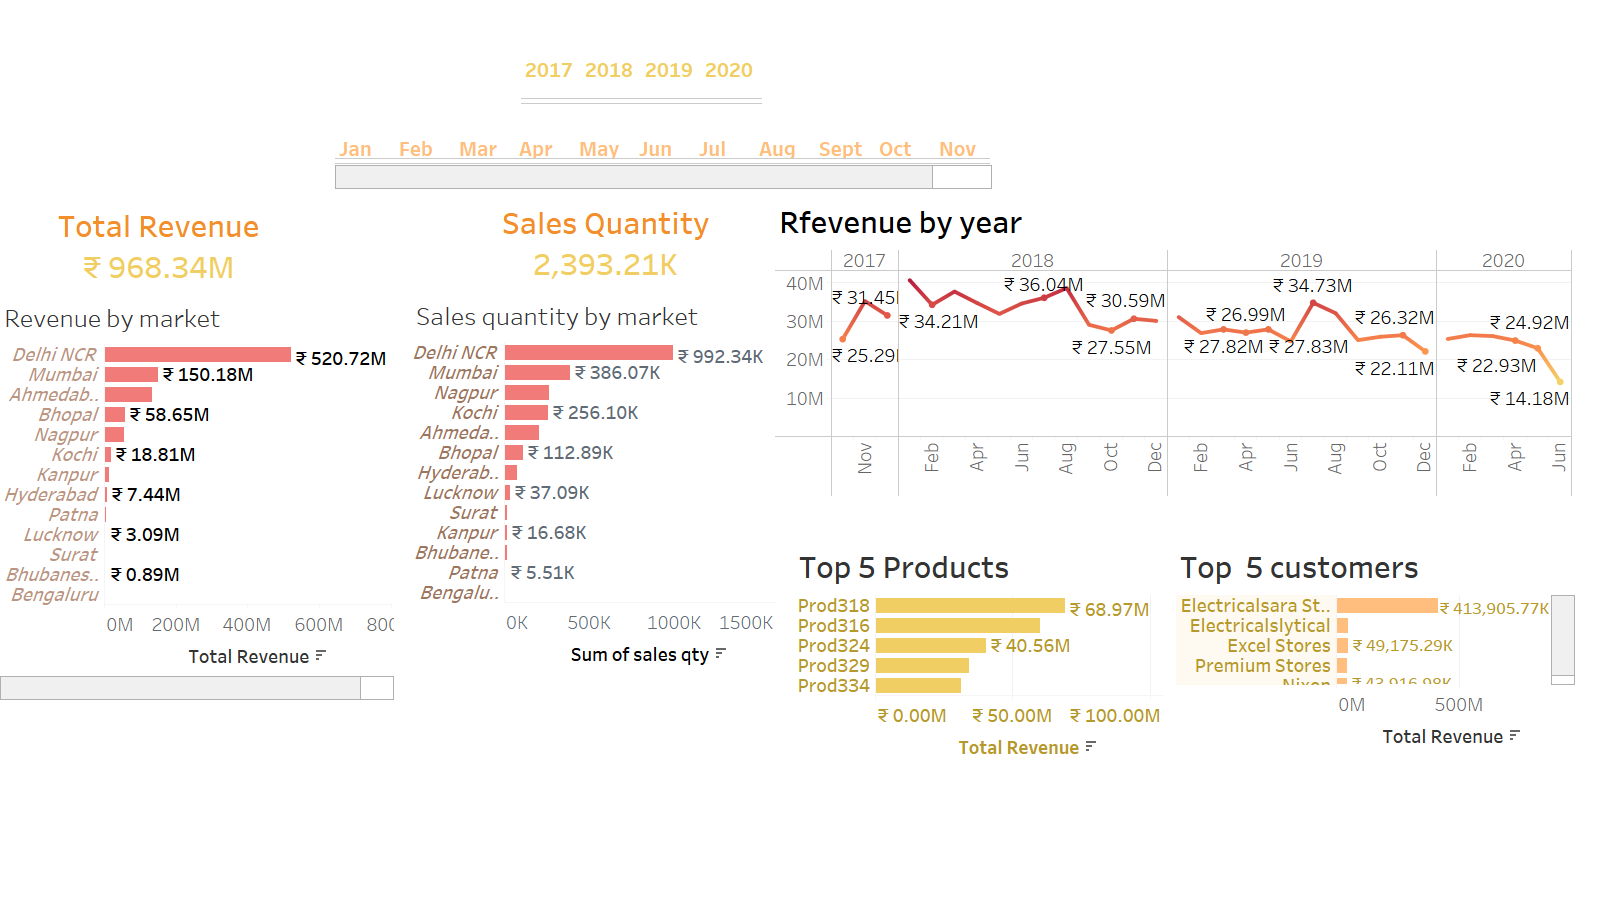

What the dashboard file says about the page in this screenshot:
{"tool":"tableau","page":{"name":"SalesInsights","canvas":[1600,900],"ordinal":0},"visuals":[{"type":"worksheet","title":"Year","mark":"Automatic","cols":["F2 (date)"],"box":[521,24,352,82]},{"type":"worksheet","title":"Month","mark":"Automatic","cols":["F2 (date)"],"box":[335,122,656,78]},{"type":"worksheet","title":"REVENUE","mark":"Text","box":[49.1,190,315.7,129]},{"type":"worksheet","title":"Rfevenue by year","mark":"Line","rows":["F6"],"cols":["F2 (date)","F2 (date)"],"box":[775,194,797,303]},{"type":"worksheet","title":"Sal Quantity","mark":"Automatic","box":[496,202,255,88]},{"type":"worksheet","title":"Sales quantity by market","mark":"Automatic","rows":["Chennai"],"cols":["F5"],"box":[412,293,365,517]},{"type":"worksheet","title":"Revenue by market","mark":"Automatic","rows":["Chennai"],"cols":["Calculation_835699224295145472"],"box":[0,295,393,515]},{"type":"worksheet","title":"Top 5 Products","mark":"Automatic","rows":["F1"],"cols":["Calculation_835699224295145472"],"box":[795,539,391,233]},{"type":"worksheet","title":"Top  5 customers","mark":"Automatic","rows":["Surge Stores"],"cols":["Calculation_835699224295145472"],"box":[1176,539,399,216]}]}

Visuals, with their boxes in screenshot pixels (x1, y1, x2, y2), scaled from the page's 1600x900 canvas onto the 1600x900 screenshot:
"Year" worksheet: pyautogui.locateOnScreen(521, 24, 873, 106)
"Month" worksheet: pyautogui.locateOnScreen(335, 122, 991, 200)
"REVENUE" worksheet (Text marks): pyautogui.locateOnScreen(49, 190, 365, 319)
"Rfevenue by year" worksheet (Line marks): pyautogui.locateOnScreen(775, 194, 1572, 497)
"Sal Quantity" worksheet: pyautogui.locateOnScreen(496, 202, 751, 290)
"Sales quantity by market" worksheet: pyautogui.locateOnScreen(412, 293, 777, 810)
"Revenue by market" worksheet: pyautogui.locateOnScreen(0, 295, 393, 810)
"Top 5 Products" worksheet: pyautogui.locateOnScreen(795, 539, 1186, 772)
"Top  5 customers" worksheet: pyautogui.locateOnScreen(1176, 539, 1575, 755)
